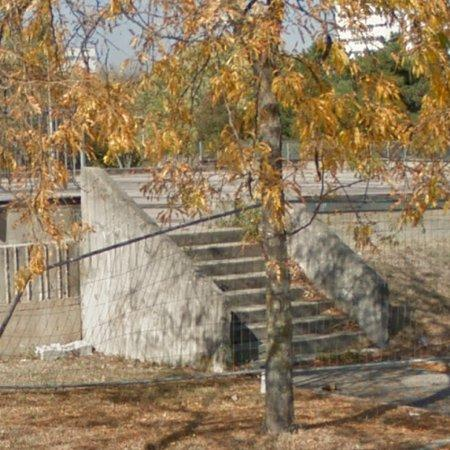stairs: (171, 228, 267, 365), (293, 285, 370, 363)
